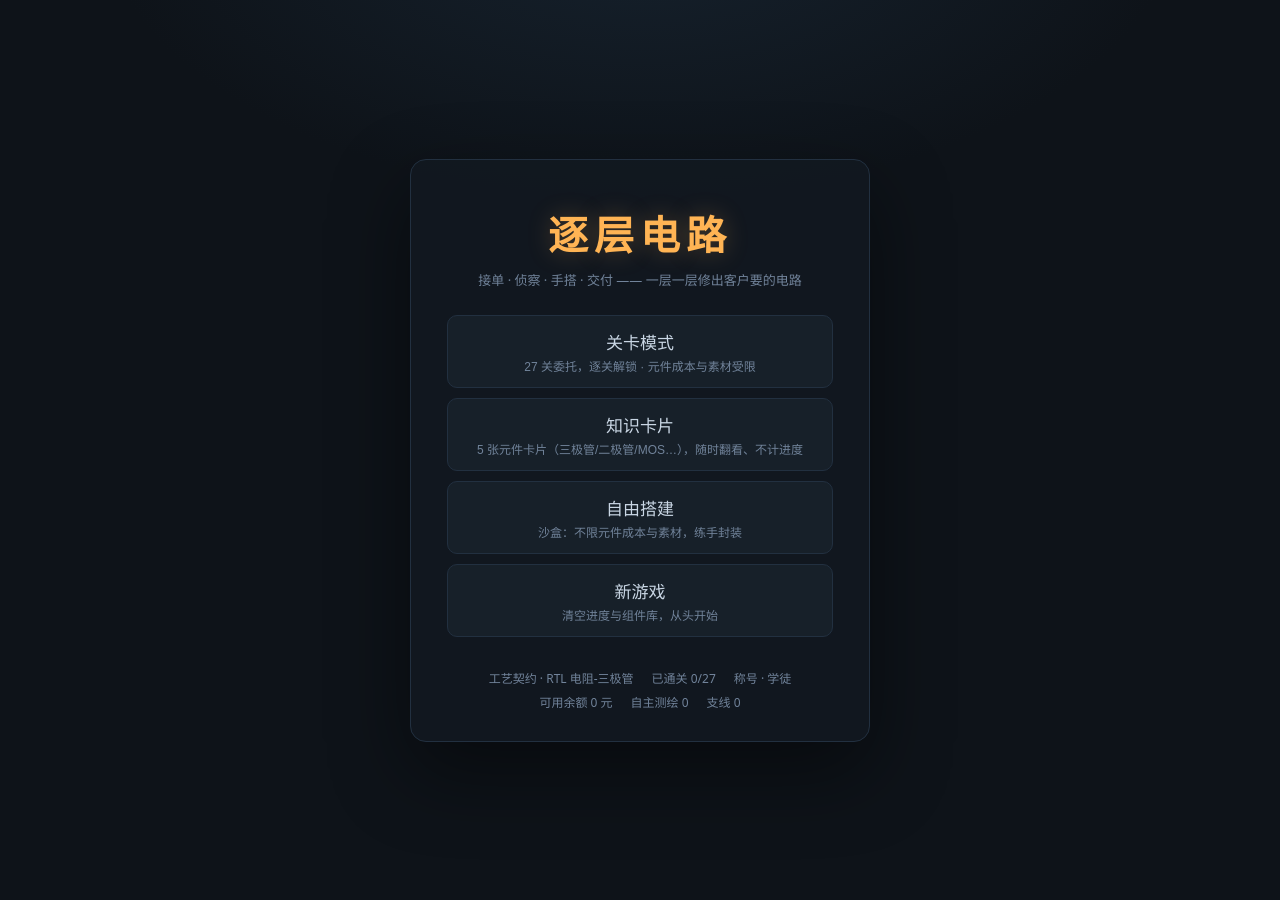
Test: 画布浮动工具条：撤销 / 重做常驻左下角 › 两个按钮在画布的浮动条里，不在顶栏里
The image size is (1280, 900).
Click the button "关卡模式 27 关委托，逐关解锁 · 元件成本与素材受限": {"x": 640, "y": 351} [447, 314, 833, 388]
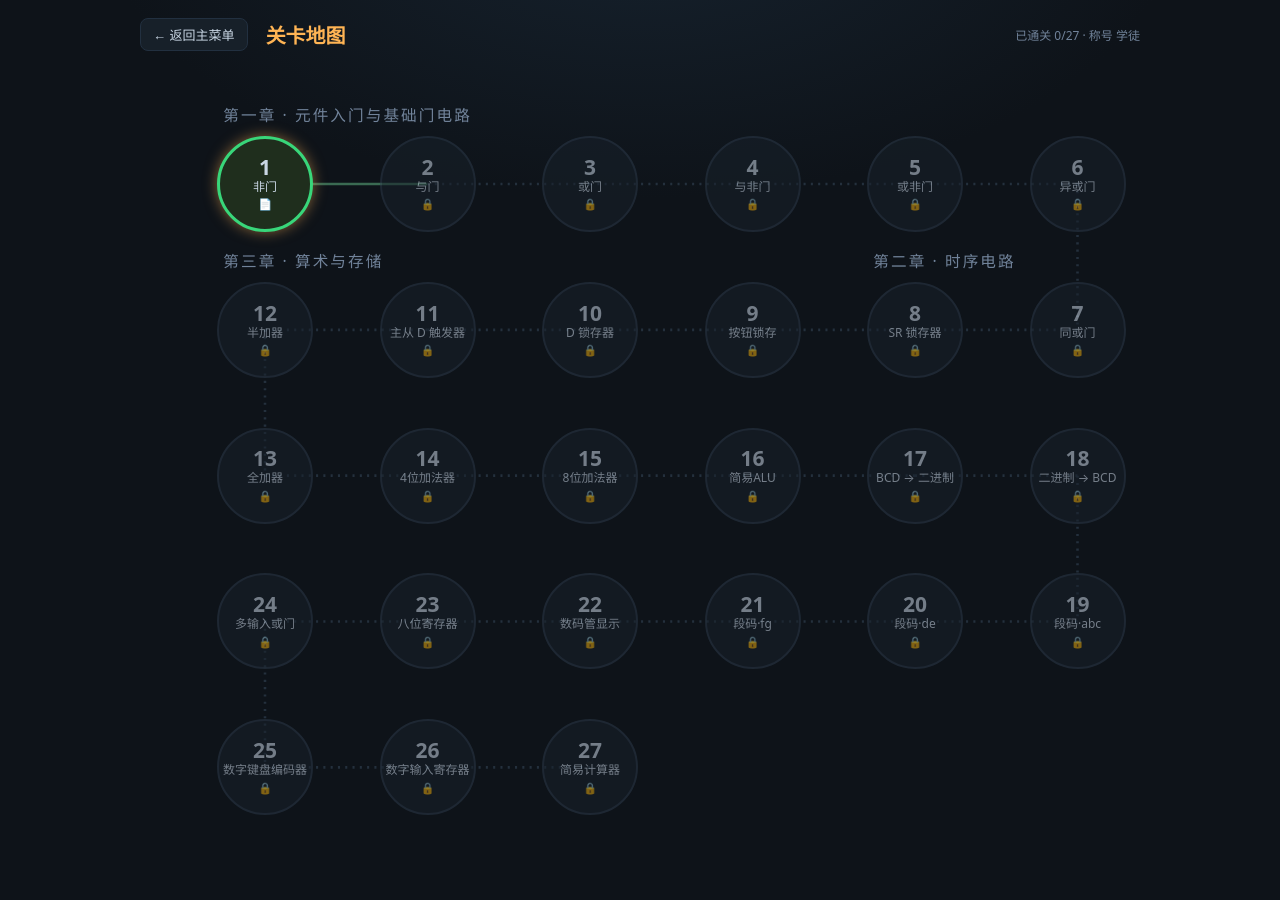
Click the text "非门": {"x": 265, "y": 187} [253, 180, 277, 194]
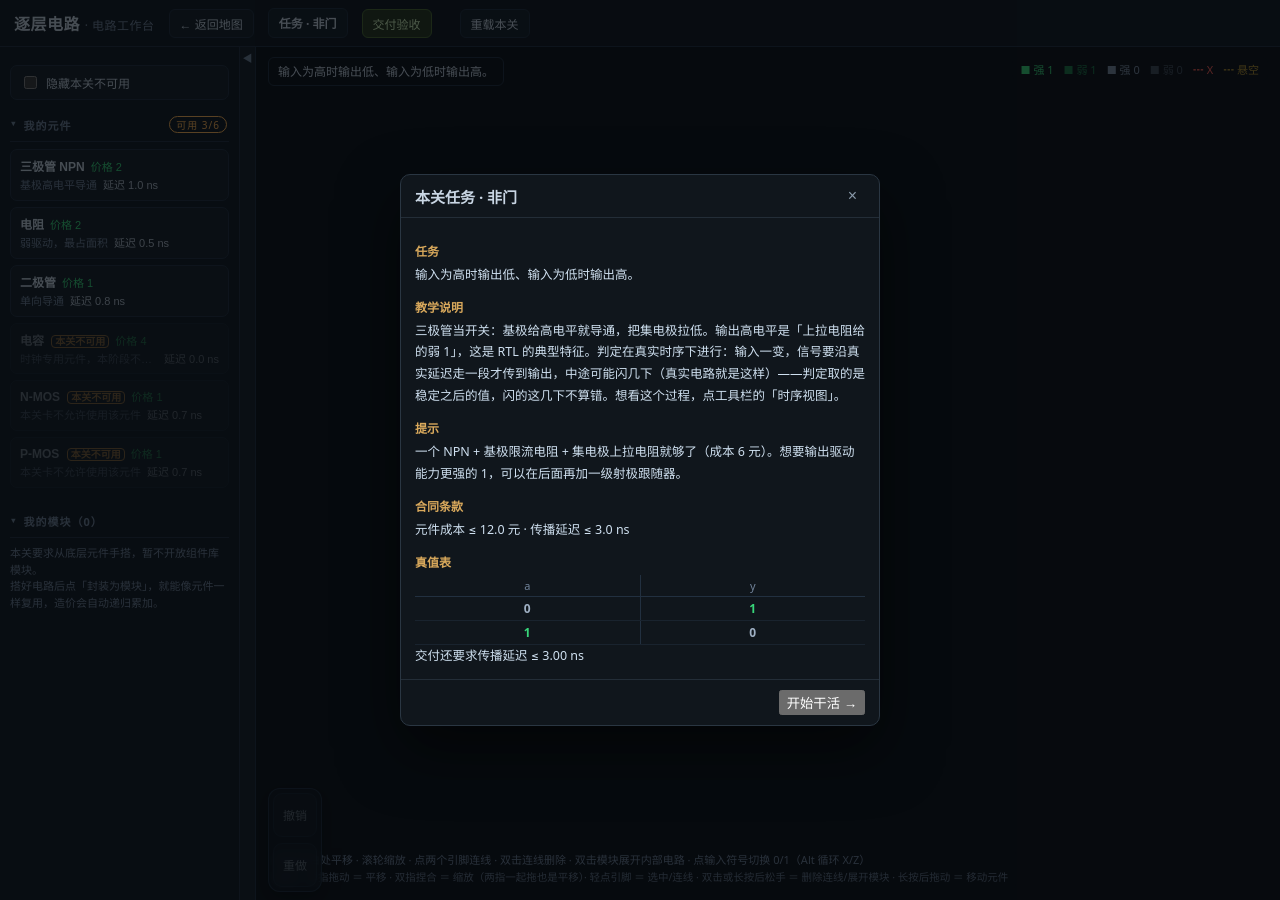
Expected: the button "重做" is shown, [273, 843, 317, 887]
Expected: the element with class "ovl-tools" is shown, [268, 788, 322, 892]
Expected: the button "撤销" is shown, [273, 793, 317, 837]
